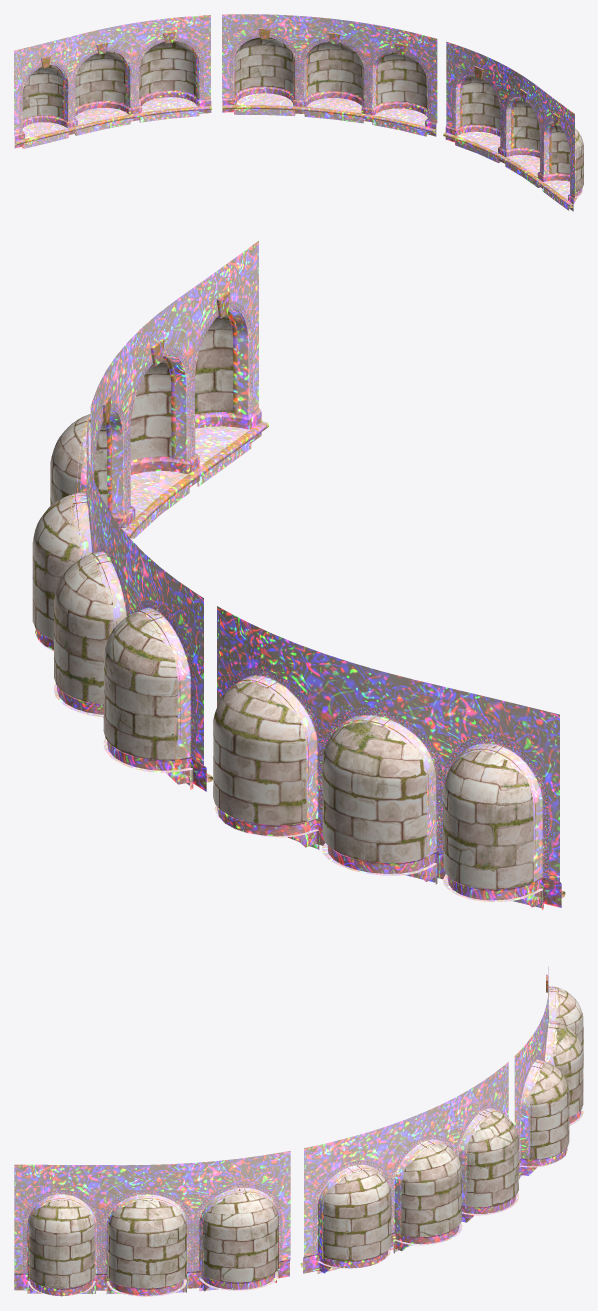
Rendered from alcove_corner_large_inverse_SM.fbx.
The picture shows the model from 3 angles, top to bottom: view 1: azimuth 30°, elevation 25°; view 2: azimuth 150°, elevation 25°; view 3: azimuth 270°, elevation 25°; orthographic projection. The views are drawn at different scales.
Parts seen in each view (by area): view 1: alcove_corner_large_inverse_SM_LOD0; view 2: alcove_corner_large_inverse_SM_LOD0; view 3: alcove_corner_large_inverse_SM_LOD0.
Part boxes in pixels (x1,y1,x2,y2): alcove_corner_large_inverse_SM_LOD0: (14, 14, 583, 211); alcove_corner_large_inverse_SM_LOD0: (32, 240, 565, 909); alcove_corner_large_inverse_SM_LOD0: (14, 966, 583, 1296).
Bounding box in the file's own units: 2221 × 2222 × 559.
Materials: 5 (5 with a texture image).
